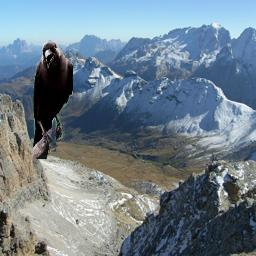Crow: (31, 41, 73, 160)
